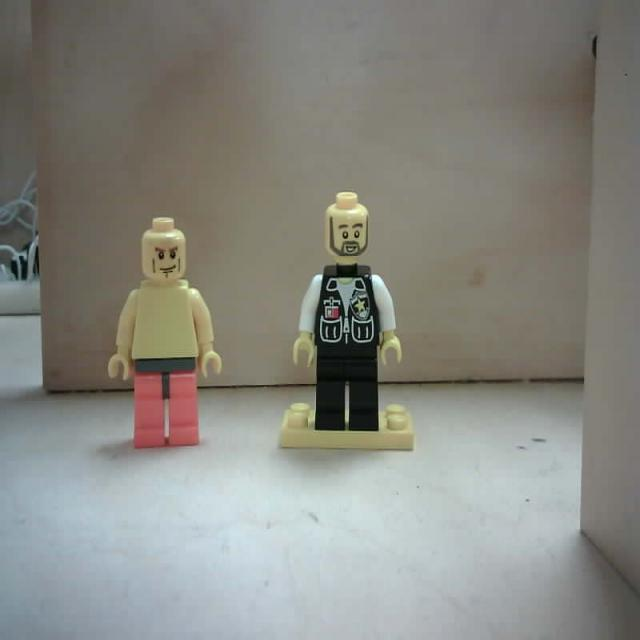Lego-People: (278, 191, 415, 455), (110, 216, 223, 453)
